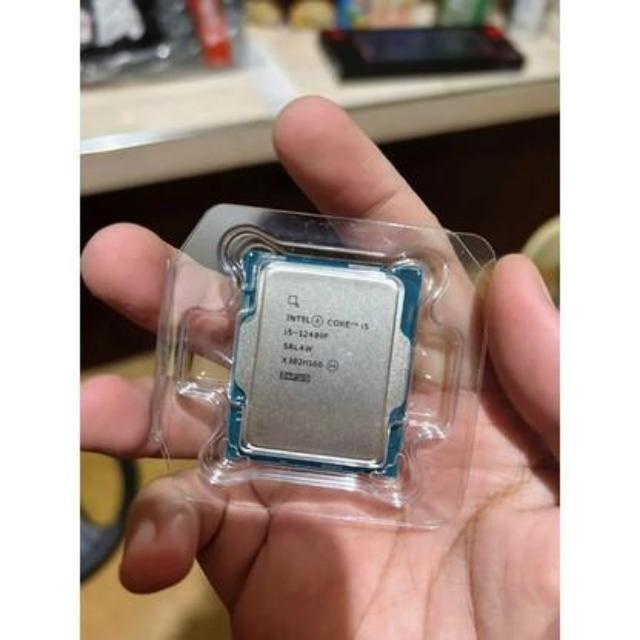CPU: (235, 254, 400, 471)
